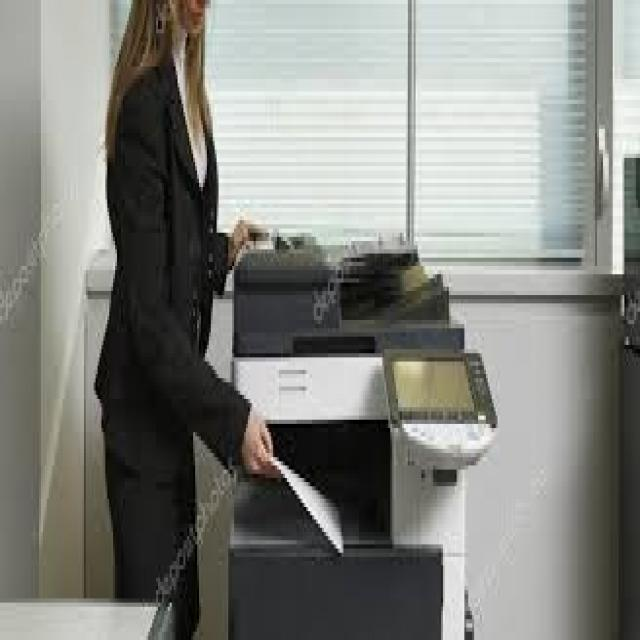printer: (218, 203, 505, 640)
